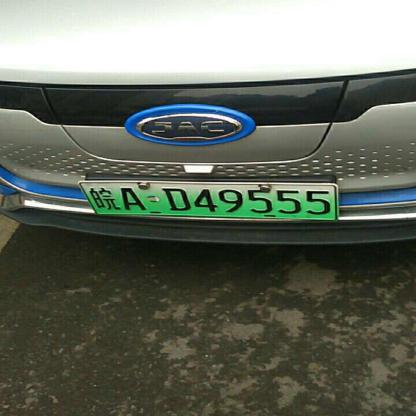lp: (79, 180, 338, 220)
